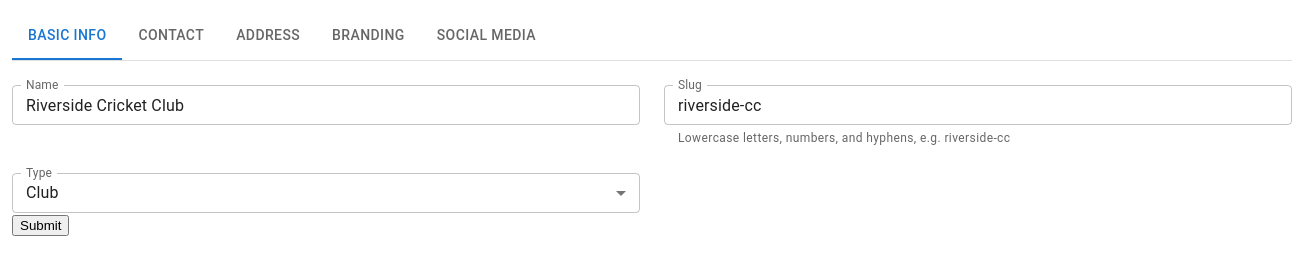
Scenario: ClubForm › renders a reachable "Social Media" tab holding SocialLinksFields, once profileInitialValues is provided (edit mode)
Step 1. Click the tab "Social Media" → {"x": 486, "y": 36}, box [421,12,552,60]
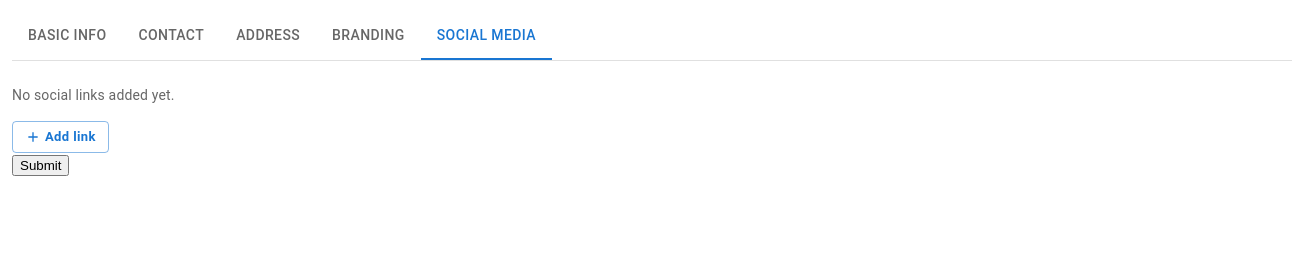
expect the text "No social links added yet." is shown: met, box [12,87,174,103]
